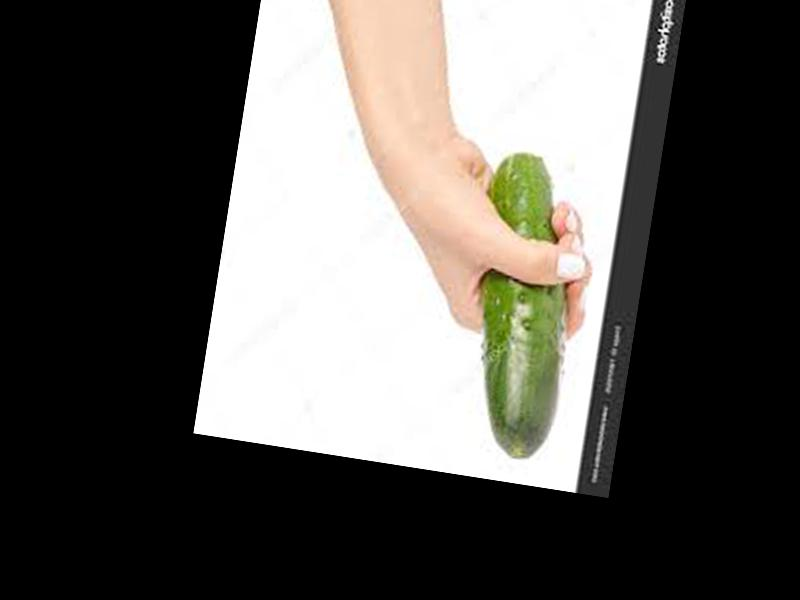Cucumber: (450, 150, 594, 466)
